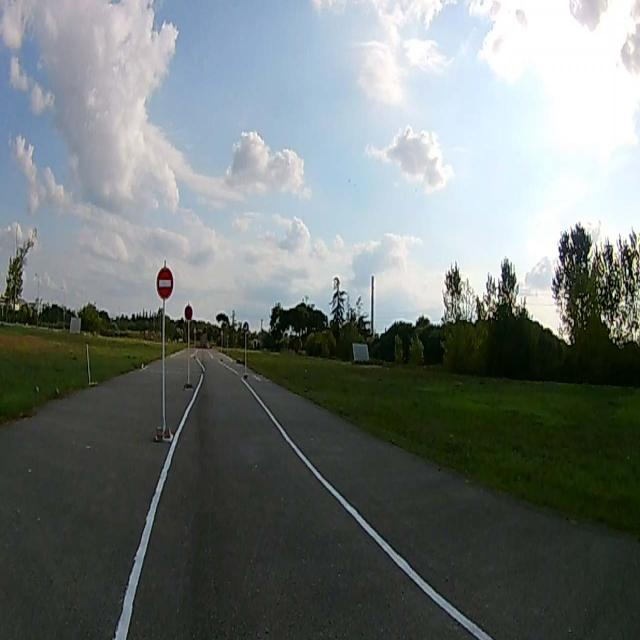girisyok: (156, 266, 173, 298)
